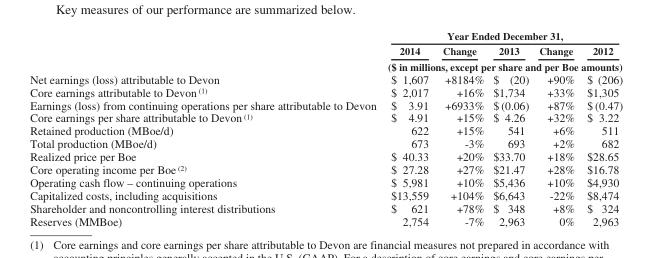table: (29, 29, 622, 227)
table column: (29, 29, 381, 227), (381, 29, 434, 227), (434, 29, 487, 227), (533, 29, 580, 227), (487, 29, 533, 227), (580, 29, 622, 227)
table column header: (29, 29, 622, 72)
table row: (29, 42, 622, 58), (29, 58, 622, 72), (29, 29, 622, 42), (29, 72, 622, 85), (29, 85, 622, 98), (29, 98, 622, 111), (29, 123, 622, 136), (29, 136, 622, 149), (29, 149, 622, 162), (29, 162, 622, 175), (29, 175, 622, 188), (29, 188, 622, 201), (29, 201, 622, 214), (29, 214, 622, 227), (29, 111, 622, 123)
table spanning cell: (381, 58, 622, 72), (381, 29, 622, 42)
